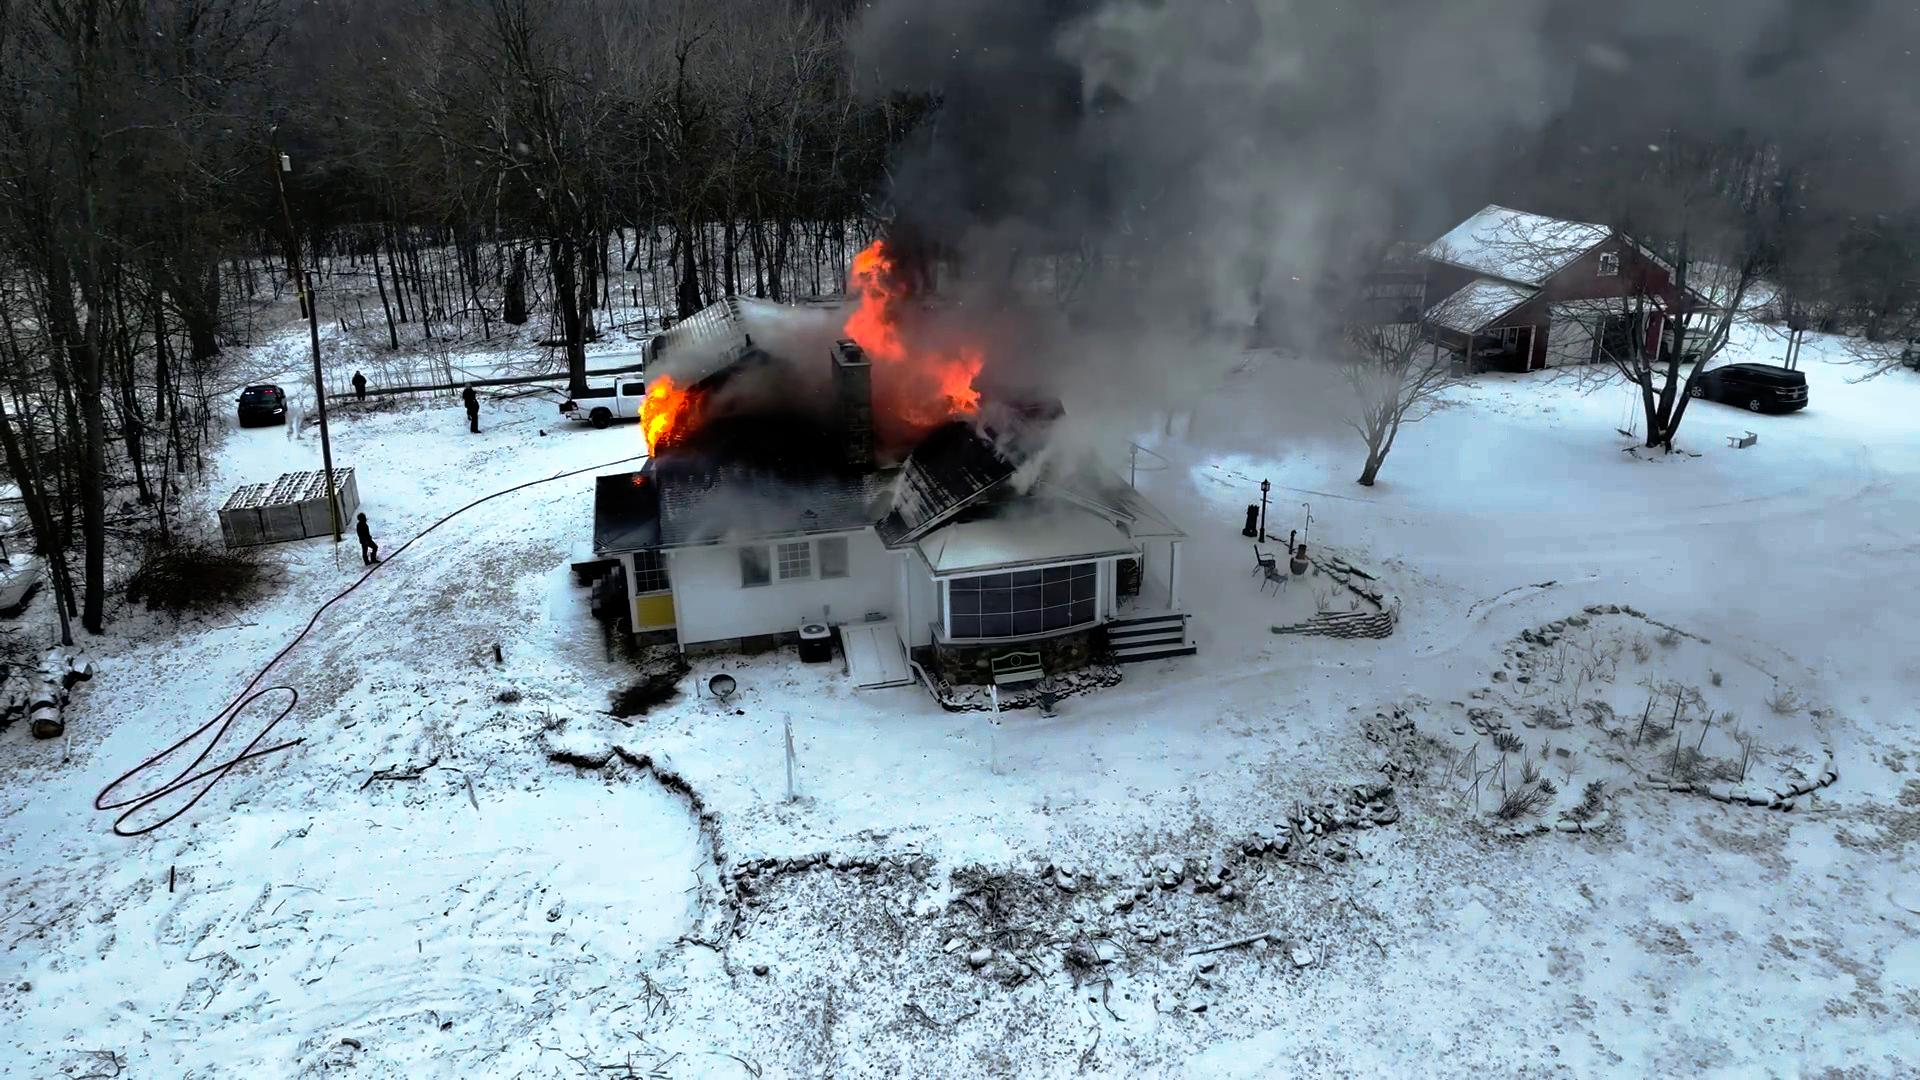fire: (820, 251, 1001, 421), (638, 378, 695, 447)
smoke: (988, 70, 1323, 215)
